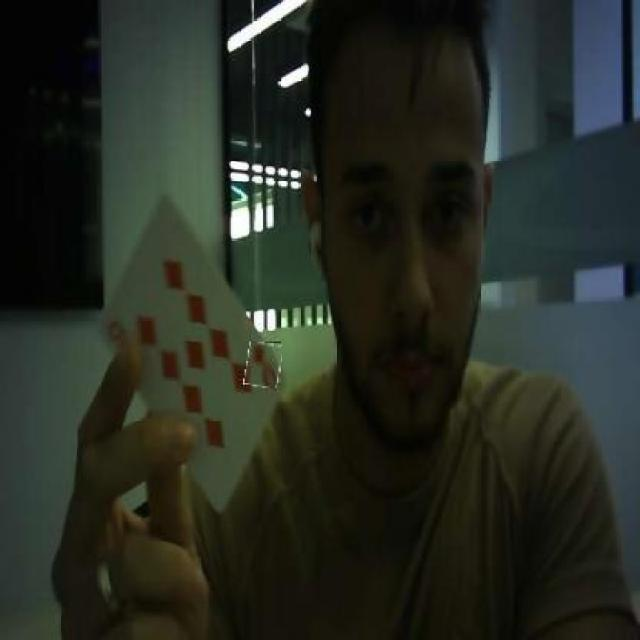9D: (245, 342, 280, 388)
